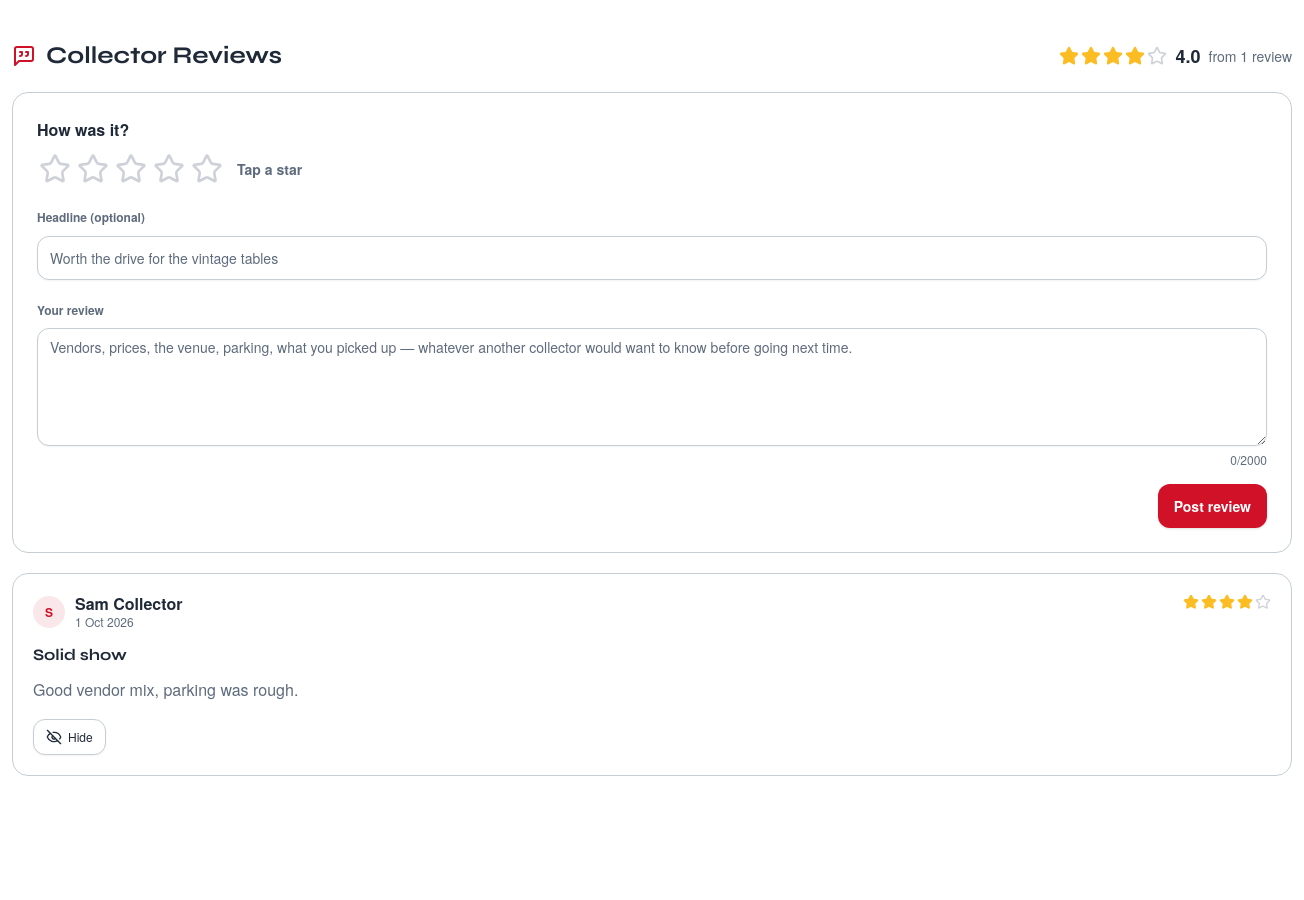
Test: EventAttendeeReviews › gives an admin a Hide action on other people's reviews
Expected: the text "Good vendor mix, parking was rough." is shown, [33, 678, 298, 701]
Click the button "Hide" at (69,737), box [33, 719, 106, 755]
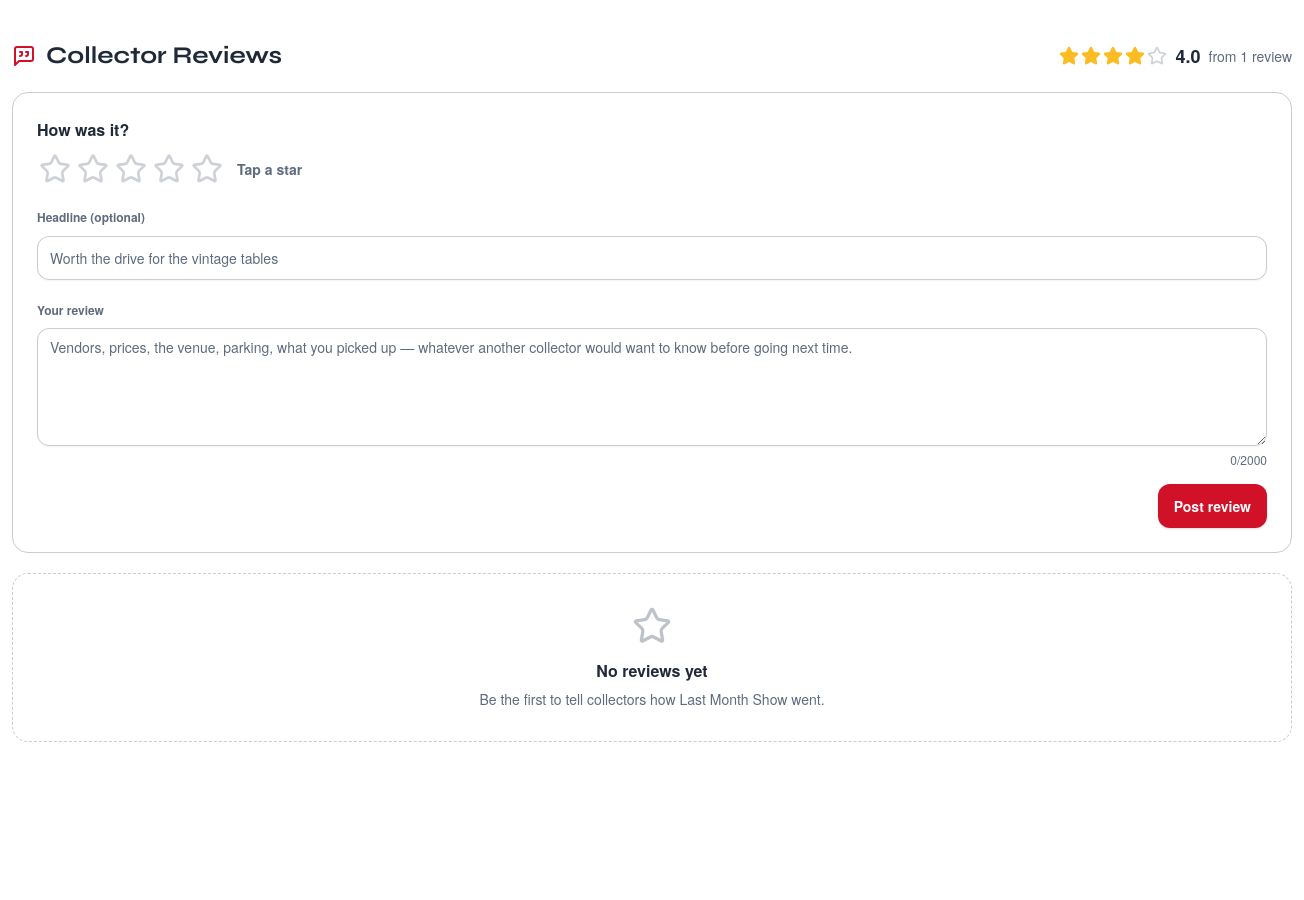
Now the text "Good vendor mix, parking was rough." is gone
